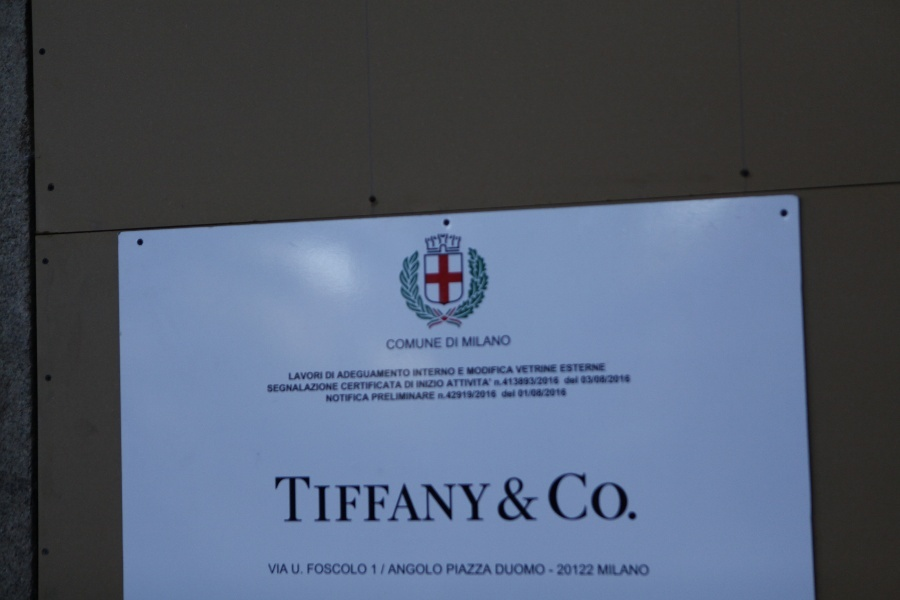text: (273, 470, 288, 531), (289, 470, 304, 531), (305, 470, 320, 531), (321, 470, 336, 531), (337, 470, 352, 531), (353, 470, 368, 531), (369, 470, 384, 531), (385, 470, 400, 531), (401, 470, 416, 531), (417, 470, 432, 531), (433, 470, 448, 531), (449, 470, 464, 531), (465, 470, 480, 531), (481, 470, 496, 531), (497, 470, 512, 531), (513, 470, 528, 531), (529, 470, 544, 531), (545, 470, 560, 531), (561, 470, 576, 531), (577, 470, 592, 531), (593, 470, 608, 531), (609, 470, 624, 531), (625, 470, 640, 531), (497, 561, 512, 579), (513, 561, 528, 579), (529, 561, 544, 579), (545, 561, 560, 579), (561, 561, 576, 579), (577, 561, 592, 579), (465, 333, 480, 349), (481, 333, 496, 349), (497, 333, 512, 349), (273, 562, 288, 578), (305, 562, 320, 578), (321, 562, 336, 578), (337, 562, 352, 578), (353, 562, 368, 578), (369, 562, 384, 578), (385, 562, 400, 578), (401, 562, 416, 578), (417, 562, 432, 578), (609, 563, 624, 579), (625, 563, 640, 579), (449, 562, 464, 577), (465, 562, 480, 577), (290, 562, 304, 578), (401, 337, 416, 351), (417, 337, 432, 351), (386, 337, 400, 351), (449, 376, 464, 389), (465, 376, 480, 389), (481, 376, 496, 389), (497, 376, 512, 389), (513, 376, 528, 389), (529, 376, 544, 389), (545, 376, 560, 389), (529, 386, 544, 399), (545, 386, 560, 399), (481, 562, 494, 577), (269, 470, 272, 531), (353, 368, 368, 380), (369, 368, 384, 380), (385, 368, 400, 380), (561, 362, 576, 374), (577, 362, 592, 374), (273, 382, 288, 394), (289, 382, 304, 394), (305, 382, 320, 394), (321, 382, 336, 394), (385, 390, 400, 402), (401, 390, 416, 402), (417, 390, 432, 402), (449, 389, 464, 401), (465, 389, 480, 401), (481, 389, 496, 401), (433, 562, 444, 578), (597, 563, 608, 579), (338, 368, 352, 380), (370, 390, 384, 402), (417, 367, 432, 378), (433, 367, 448, 378), (481, 365, 496, 376), (497, 365, 512, 376), (593, 374, 608, 385), (609, 374, 624, 385), (353, 380, 368, 391), (369, 380, 384, 391), (385, 380, 400, 391), (593, 362, 606, 374), (466, 365, 480, 376), (289, 371, 304, 381), (305, 371, 320, 381), (529, 364, 544, 374), (417, 379, 432, 389), (337, 393, 352, 403), (353, 393, 368, 403), (641, 563, 650, 579), (517, 386, 528, 399), (514, 364, 528, 374), (437, 389, 448, 401), (449, 336, 459, 349), (545, 364, 558, 374), (433, 337, 442, 351), (581, 374, 592, 385), (341, 380, 352, 391), (401, 368, 411, 380), (433, 379, 445, 389), (265, 562, 272, 578), (325, 393, 336, 403), (501, 388, 512, 398), (404, 380, 416, 389), (326, 370, 336, 380), (566, 375, 576, 385), (561, 386, 568, 399), (449, 367, 457, 378), (625, 374, 632, 385), (266, 382, 272, 394), (641, 470, 642, 531), (458, 366, 464, 376), (411, 367, 416, 378), (493, 561, 496, 579), (593, 561, 596, 579), (445, 336, 448, 349), (337, 382, 340, 394), (433, 390, 436, 402), (401, 380, 404, 391), (462, 333, 464, 349), (289, 562, 291, 578), (577, 375, 580, 385), (513, 388, 516, 398), (513, 365, 515, 376), (321, 371, 323, 381), (369, 393, 371, 403), (447, 562, 448, 577), (559, 362, 560, 374), (497, 389, 498, 401)
